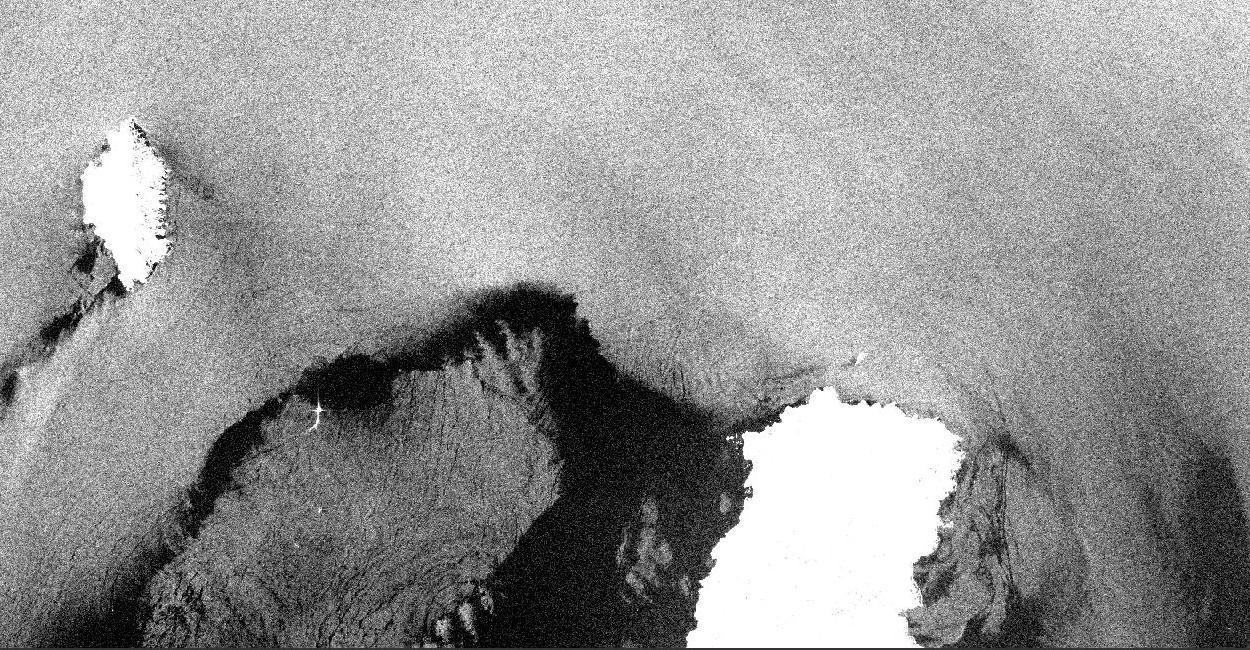Look-alike: (0, 222, 1250, 650)
